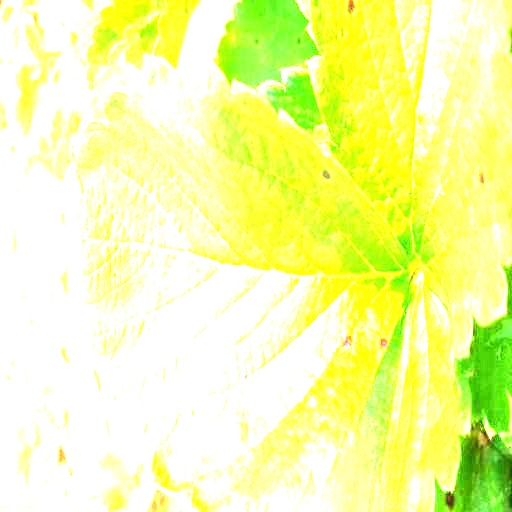Leaf Spot: (63, 51, 414, 511), (299, 0, 511, 361), (213, 0, 321, 94)
